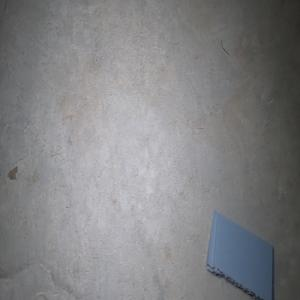PlasticPart: (206, 210, 273, 300)
